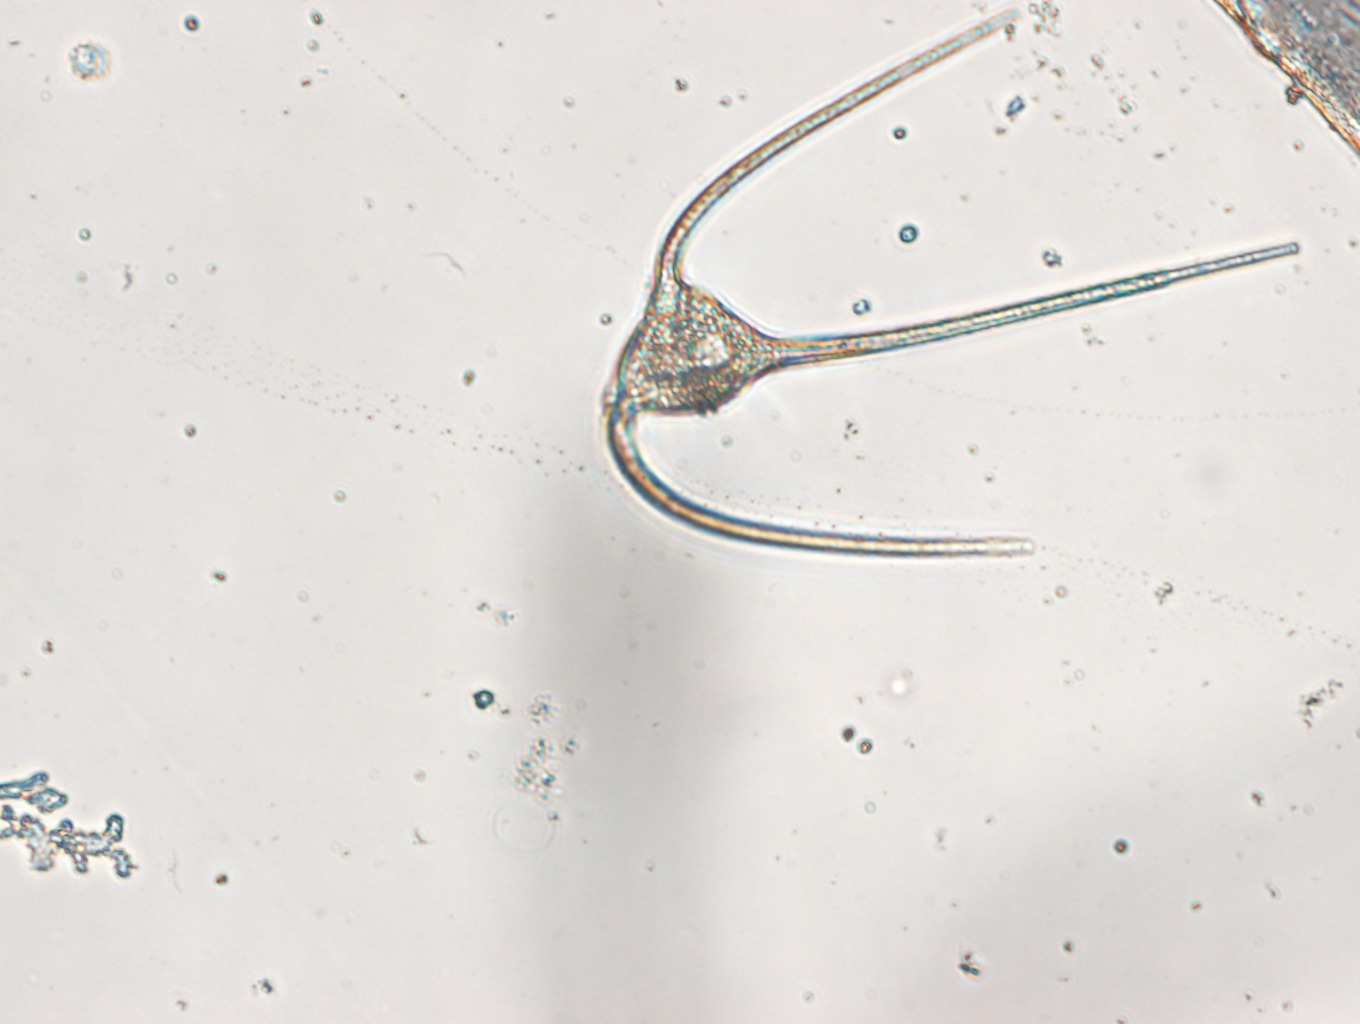ceratium trichoceros: (606, 5, 1308, 555)
